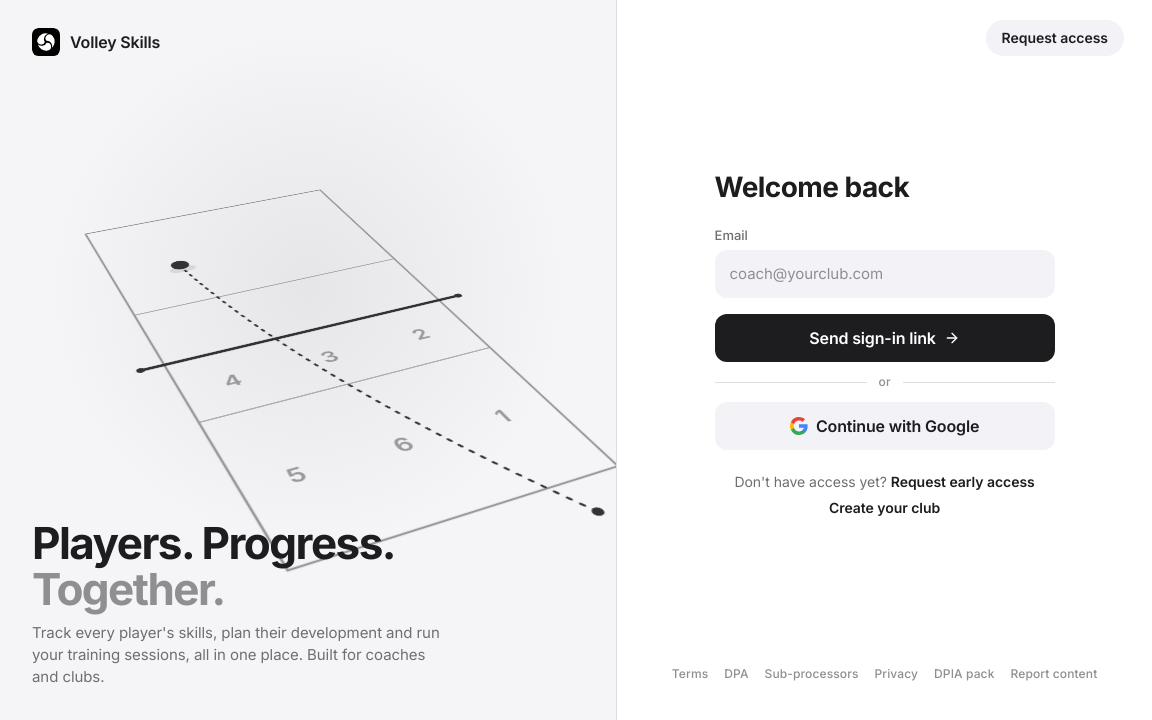
Test: LoginPage › shows an error message when Google sign-in fails
Click the button "Continue with Google" at (885, 426), box [715,402,1055,450]
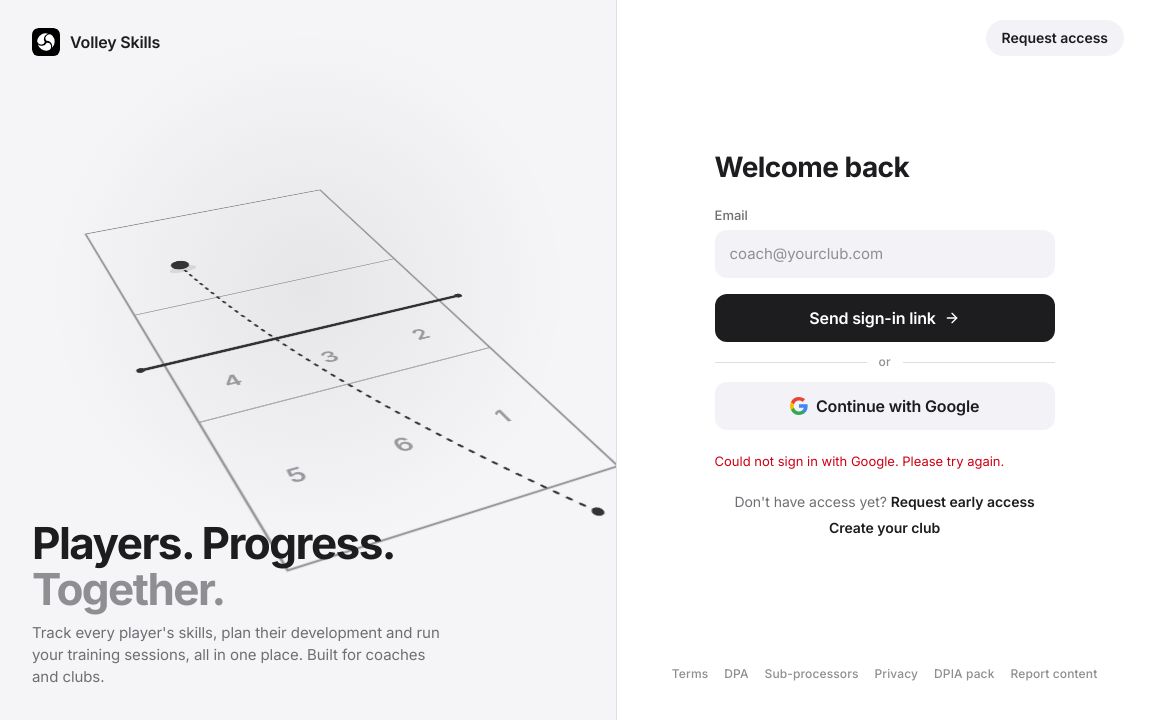
Check: the message "Could not sign in with Google. Please try again." is shown, box [715,452,1055,470]
